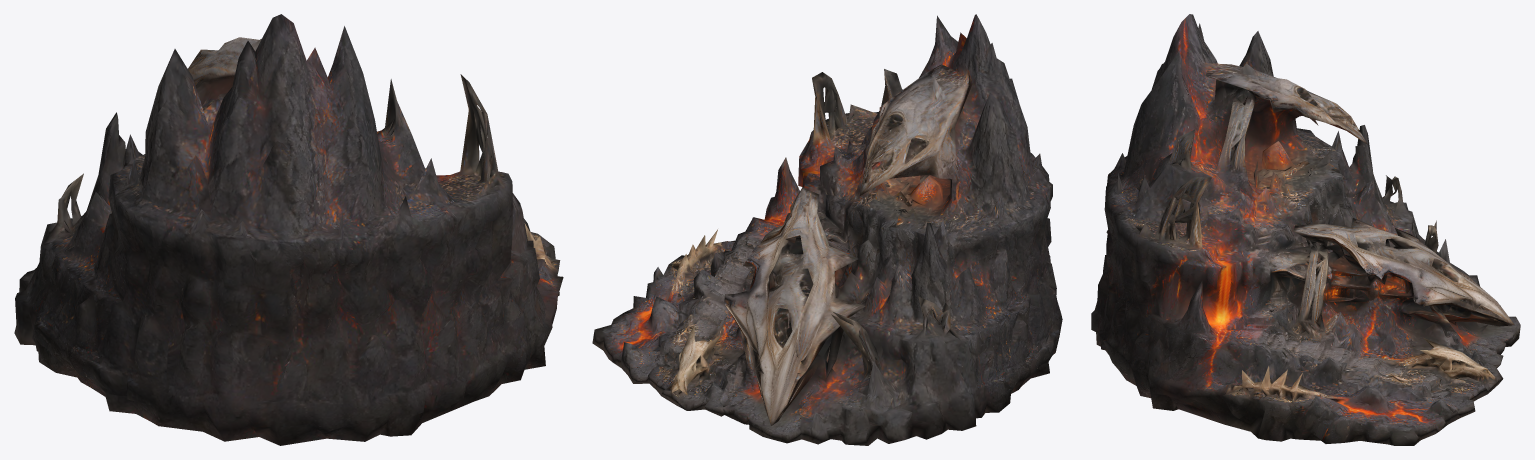
Rendered from env_ro_wreck.glb.
3 renders of one model, left to right at view 1: azimuth 30°, elevation 25°; view 2: azimuth 150°, elevation 25°; view 3: azimuth 270°, elevation 25°, orthographic. The views are drawn at different scales.
Parts seen in each view (by area): view 1: tripo_node_db5c7527-2124-4c14-b68f-00624f82a654; view 2: tripo_node_db5c7527-2124-4c14-b68f-00624f82a654; view 3: tripo_node_db5c7527-2124-4c14-b68f-00624f82a654.
Boxes of the visible parts, x1,y1,x2,y2 form: tripo_node_db5c7527-2124-4c14-b68f-00624f82a654: (14,14,563,445); tripo_node_db5c7527-2124-4c14-b68f-00624f82a654: (592,14,1062,445); tripo_node_db5c7527-2124-4c14-b68f-00624f82a654: (1091,14,1520,445).
Size of the model in its own units: 0.9994 by 0.7845 by 1.
Materials: 1 (1 with a texture image).
